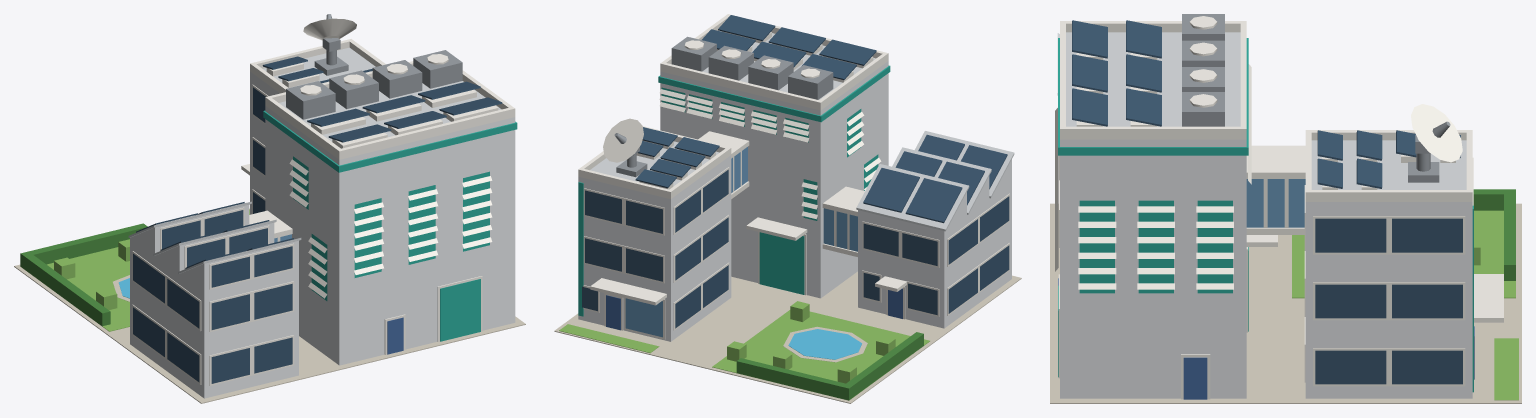
The picture shows the model from 3 angles, left to right: view 1: azimuth 30°, elevation 25°; view 2: azimuth 150°, elevation 25°; view 3: azimuth 270°, elevation 25°; orthographic projection. The views are drawn at different scales.
Parts seen in each view (by area): view 1: cleanroom_hall, window_band (×14), lab, ac_unit_body (×4), grille_panel (×4), yard, hedge (×2), parapet (×3), solar_panel (×6), band_frame (×5), sawtooth (×3), lawn (+8 smaller); view 2: cleanroom_hall, window_band (×19), solar_panel (×17), yard, office, lab, lawn (×2), roof (×5), ac_unit_body (×4), parapet (×4), band_frame (×8), hedge (×2) (+10 smaller); view 3: cleanroom_hall, window_band (×7), office, yard, solar_panel (×11), roof (×2), parapet (×8), grille_panel (×3), lawn (×2), band_frame (×3), ac_unit_body (×4), fascia (+7 smaller).
Part boxes in pixels (x1,y1,x2,y2): cleanroom_hall: (265,106,515,365); window_band (×14): (133,210,292,383); lab: (130,238,298,398); ac_unit_body (×4): (286,50,462,119); grille_panel (×4): (311,171,489,300); yard: (14,208,525,403); hedge (×2): (20,223,147,326); parapet (×3): (250,39,515,159); solar_panel (×6): (307,81,502,142); band_frame (×5): (132,243,294,385); sawtooth (×3): (130,204,298,291); lawn: (21,247,129,331); cleanroom_hall: (660,61,888,298); window_band (×19): (585,147,1009,328); solar_panel (×17): (635,15,1007,223); yard: (554,271,1021,403); office: (578,155,731,341); lab: (858,182,1011,328); lawn (×2): (559,310,929,400); roof (×5): (590,30,1014,231); ac_unit_body (×4): (671,36,833,99); parapet (×4): (578,54,886,198); band_frame (×8): (583,167,1009,330); hedge (×2): (736,332,923,400); cleanroom_hall: (1060,139,1246,398); window_band (×7): (1246,179,1462,384); office: (1305,202,1472,398); yard: (1050,203,1521,403); solar_panel (×11): (1072,20,1416,188); roof (×2): (1066,32,1466,189); parapet (×8): (1060,21,1472,201); grille_panel (×3): (1079,200,1232,293); lawn (×2): (1292,210,1518,400); band_frame (×3): (1313,216,1465,386); ac_unit_body (×4): (1182,14,1224,126); fascia: (1058,38,1248,155).
Bounding box in the file's own units: 24 × 16.14 × 24.
